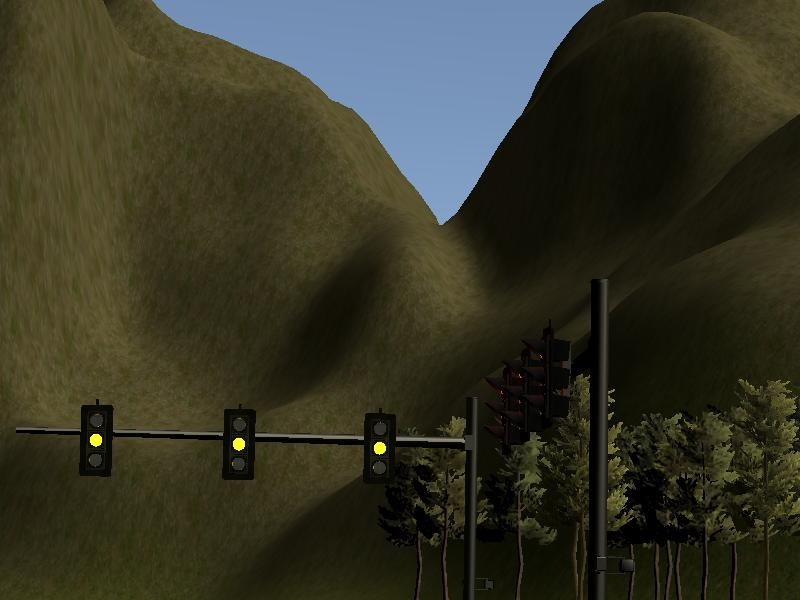YELLOW: (362, 411, 397, 485), (220, 406, 255, 480), (78, 401, 113, 475)
